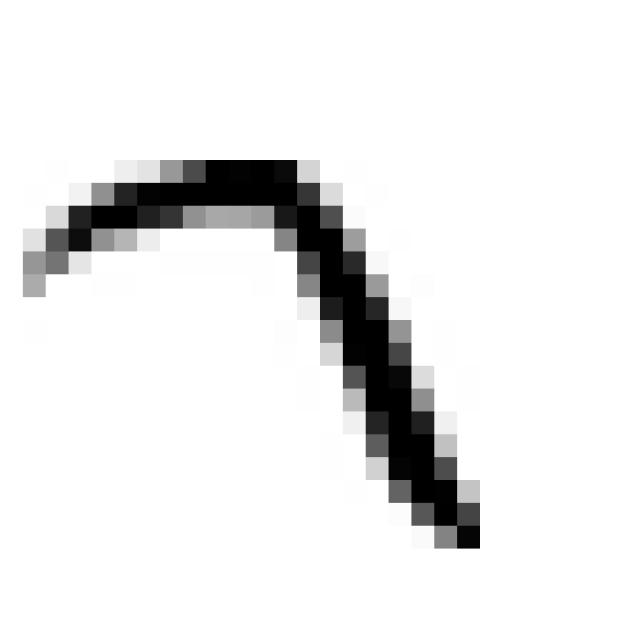6 -six-: (7, 130, 500, 574)
